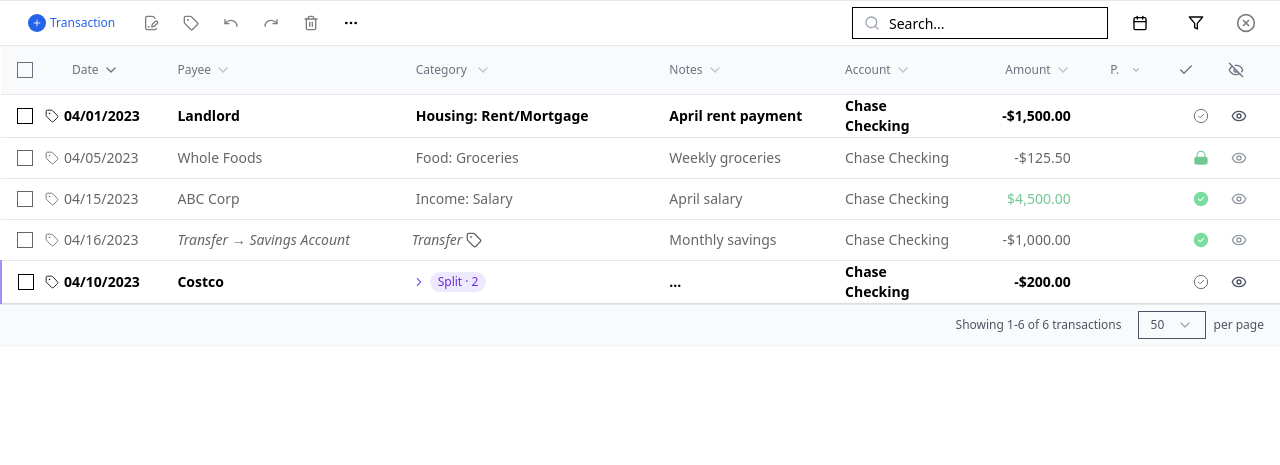
Test case: Transactions page — UI smoke tests › shows inline form when Add Transaction is clicked
The width and height of the screenshot is (1280, 465).
Expected: the text "Transaction" is shown, 50,15 -> 115,31
Click the button "Transaction". click: (72, 23)
box: 16,5 -> 127,41
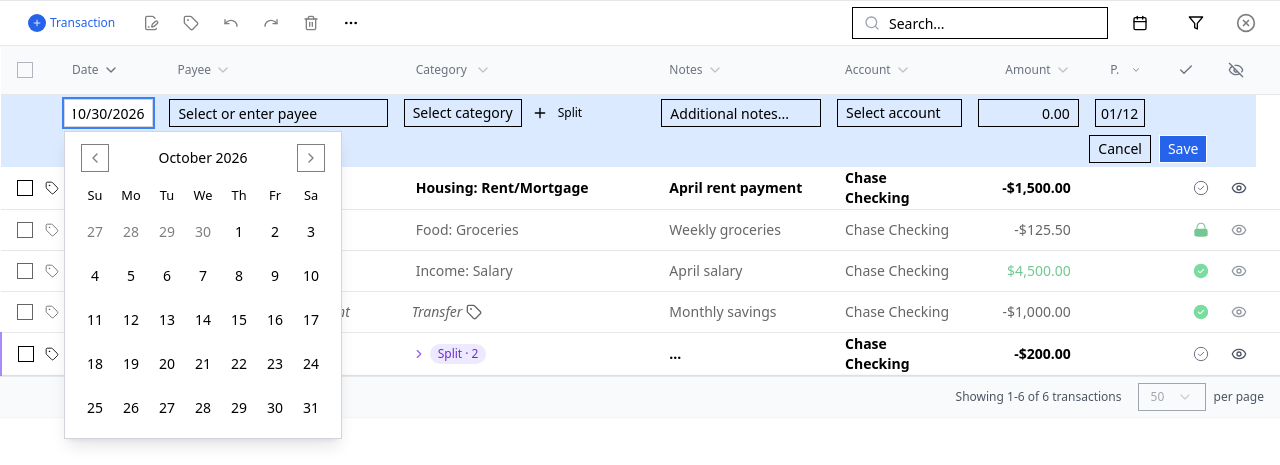
Expected: the field with placeholder "0.00" is shown, 978,99 -> 1079,127
Expected: the field with placeholder "Additional notes..." is shown, 661,99 -> 821,127
